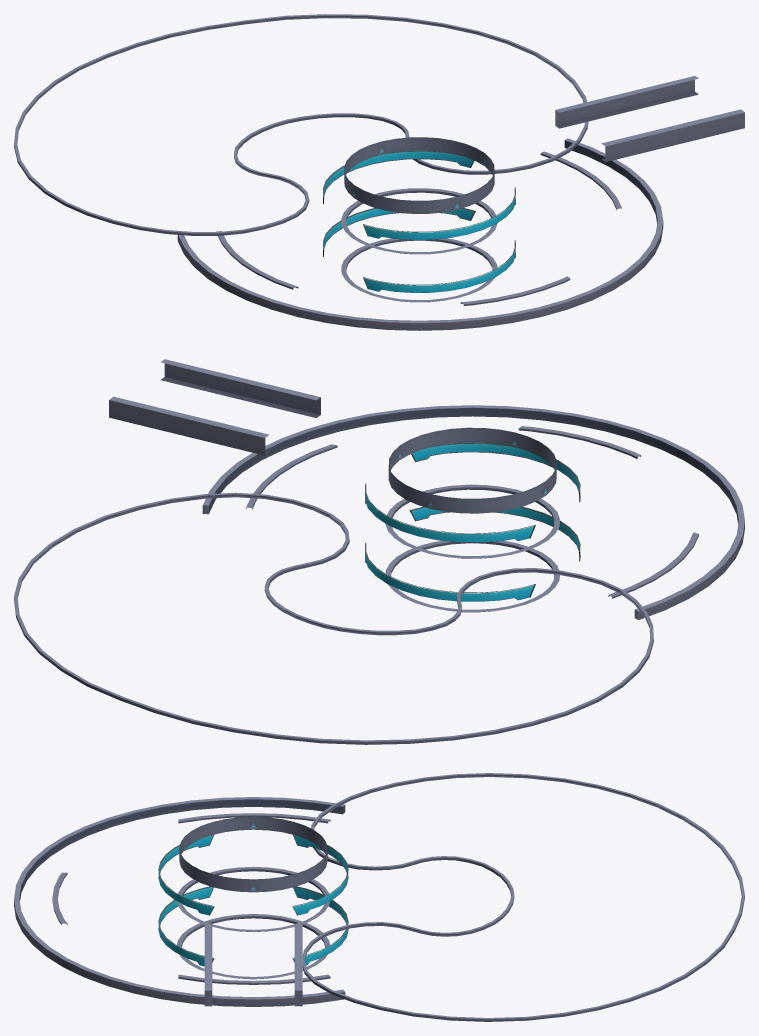
The model's file is mesh_1002_jxl_001.FBX.
3 renders of one model, top to bottom at view 1: azimuth 30°, elevation 25°; view 2: azimuth 150°, elevation 25°; view 3: azimuth 270°, elevation 25°, orthographic. The views are drawn at different scales.
Parts seen in each view (by area): view 1: mesh_1002_jxl_001; view 2: mesh_1002_jxl_001; view 3: mesh_1002_jxl_001.
Part boxes in pixels (bbox=[...]): mesh_1002_jxl_001: bbox=[14, 14, 744, 330]; mesh_1002_jxl_001: bbox=[14, 359, 744, 744]; mesh_1002_jxl_001: bbox=[14, 773, 744, 1021].
Size of the model in its own units: 7022 by 1260 by 8150.
